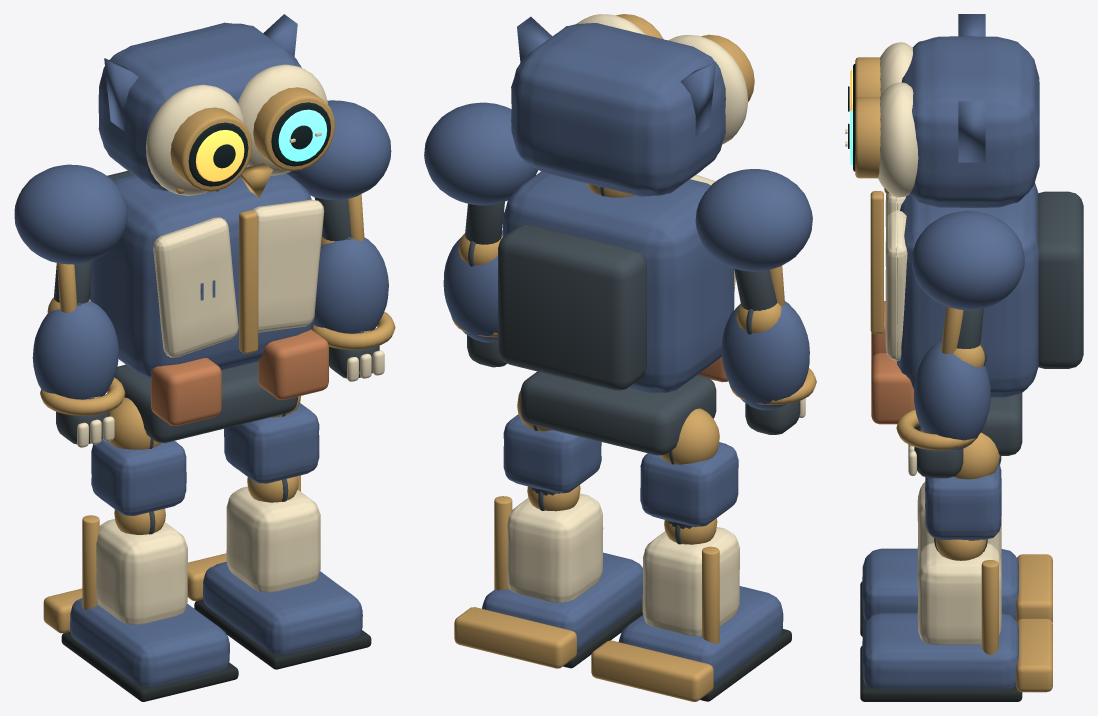
The model's file is owl_ranger.t1.glb.
3 views of the same model, side by side, from view 1: azimuth 30°, elevation 25°; view 2: azimuth 150°, elevation 25°; view 3: azimuth 270°, elevation 25° (orthographic). The views are drawn at different scales.
Visible parts, largest first — view 1: slot_torso__clay_warm_ivory__clay, slot_torso__clay_midnight_indigo__clay, slot_legL__clay_midnight_indigo__clay, slot_legR__clay_midnight_indigo__clay, slot_head__clay_midnight_indigo__clay, slot_armL__clay_midnight_indigo__clay, slot_legR__clay_warm_ivory__clay, slot_legL__clay_warm_ivory__clay, slot_torso__burnished_copper__protected, slot_head__clay_warm_ivory__clay, armL_elbow__clay_midnight_indigo__clay, armR_elbow__clay_midnight_indigo__clay (+22 smaller); view 2: slot_torso__forged_bluelead_steel__protected, slot_head__clay_midnight_indigo__clay, slot_torso__clay_midnight_indigo__clay, slot_legL__clay_midnight_indigo__clay, slot_legR__clay_midnight_indigo__clay, slot_armL__clay_midnight_indigo__clay, slot_legL__worn_warm_brass__protected, slot_legR__clay_warm_ivory__clay, slot_armR__clay_midnight_indigo__clay, slot_legL__clay_warm_ivory__clay, slot_legR__worn_warm_brass__protected, armL_elbow__clay_midnight_indigo__clay (+12 smaller); view 3: slot_head__clay_midnight_indigo__clay, slot_legR__clay_midnight_indigo__clay, slot_torso__clay_midnight_indigo__clay, slot_torso__forged_bluelead_steel__protected, slot_armR__clay_midnight_indigo__clay, slot_legR__worn_warm_brass__protected, slot_legR__clay_warm_ivory__clay, armR_elbow__clay_midnight_indigo__clay, slot_head__clay_warm_ivory__clay, slot_legL__clay_midnight_indigo__clay, slot_torso__clay_warm_ivory__clay, slot_head__worn_warm_brass__protected (+11 smaller).
Part boxes in pixels (x1,y1,x2,y2): slot_torso__clay_warm_ivory__clay: (153,199,324,357); slot_torso__clay_midnight_indigo__clay: (90,173,314,380); slot_legL__clay_midnight_indigo__clay: (70,439,229,686); slot_legR__clay_midnight_indigo__clay: (203,403,362,654); slot_head__clay_midnight_indigo__clay: (98,22,301,190); slot_armL__clay_midnight_indigo__clay: (14,164,127,264); slot_legR__clay_warm_ivory__clay: (226,486,320,592); slot_legL__clay_warm_ivory__clay: (96,519,187,624); slot_torso__burnished_copper__protected: (151,329,328,426); slot_head__clay_warm_ivory__clay: (146,64,327,195); armL_elbow__clay_midnight_indigo__clay: (32,301,118,399); armR_elbow__clay_midnight_indigo__clay: (313,237,388,333); slot_torso__forged_bluelead_steel__protected: (498,187,716,455); slot_head__clay_midnight_indigo__clay: (511,23,725,196); slot_torso__clay_midnight_indigo__clay: (503,171,734,393); slot_legL__clay_midnight_indigo__clay: (618,442,783,683); slot_legR__clay_midnight_indigo__clay: (482,414,642,649); slot_armL__clay_midnight_indigo__clay: (695,169,812,271); slot_legL__worn_warm_brass__protected: (591,408,719,701); slot_legR__clay_warm_ivory__clay: (507,493,603,602); slot_armR__clay_midnight_indigo__clay: (424,102,538,205); slot_legL__clay_warm_ivory__clay: (642,527,739,636); slot_legR__worn_warm_brass__protected: (454,391,580,668); armL_elbow__clay_midnight_indigo__clay: (721,301,809,410); slot_head__clay_midnight_indigo__clay: (901,36,1039,207); slot_legR__clay_midnight_indigo__clay: (862,463,1018,689); slot_torso__clay_midnight_indigo__clay: (897,183,1038,397); slot_torso__forged_bluelead_steel__protected: (914,191,1083,455); slot_armR__clay_midnight_indigo__clay: (911,211,1024,310); slot_legR__worn_warm_brass__protected: (935,432,1052,692); slot_legR__clay_warm_ivory__clay: (917,542,1001,644); armR_elbow__clay_midnight_indigo__clay: (914,340,990,450); slot_head__clay_warm_ivory__clay: (878,42,918,197); slot_legL__clay_midnight_indigo__clay: (862,456,1018,620); slot_torso__clay_warm_ivory__clay: (885,193,907,360); slot_head__worn_warm_brass__protected: (855,57,889,193).
Size of the model in its own units: 1.34 by 2.09 by 0.7671.
